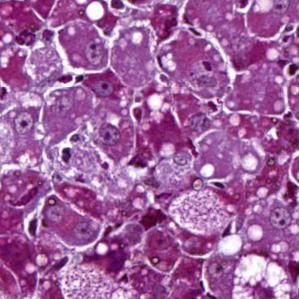ballooning: (228, 250, 294, 299)
